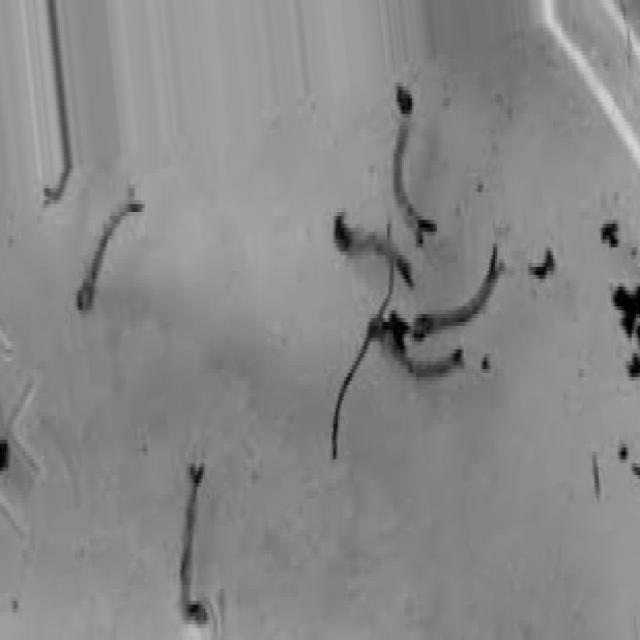larvas: (366, 315, 465, 402), (76, 180, 138, 313), (410, 248, 498, 338), (393, 82, 435, 243), (332, 212, 412, 285), (180, 462, 208, 623)
